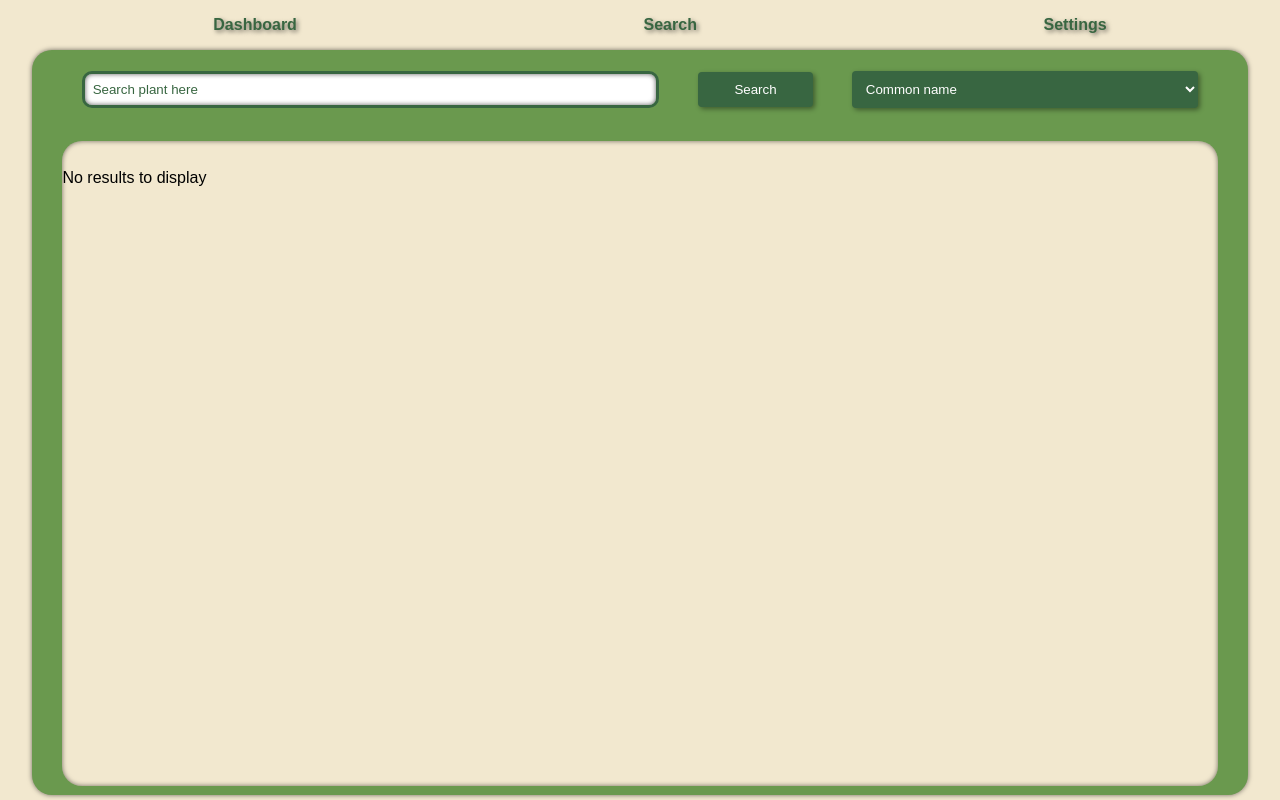
Test: fetches flowers and updates UI on successful search
Type "rose" into the field with placeholder "Search plant here" at (370, 89), box [82,71,659,108]
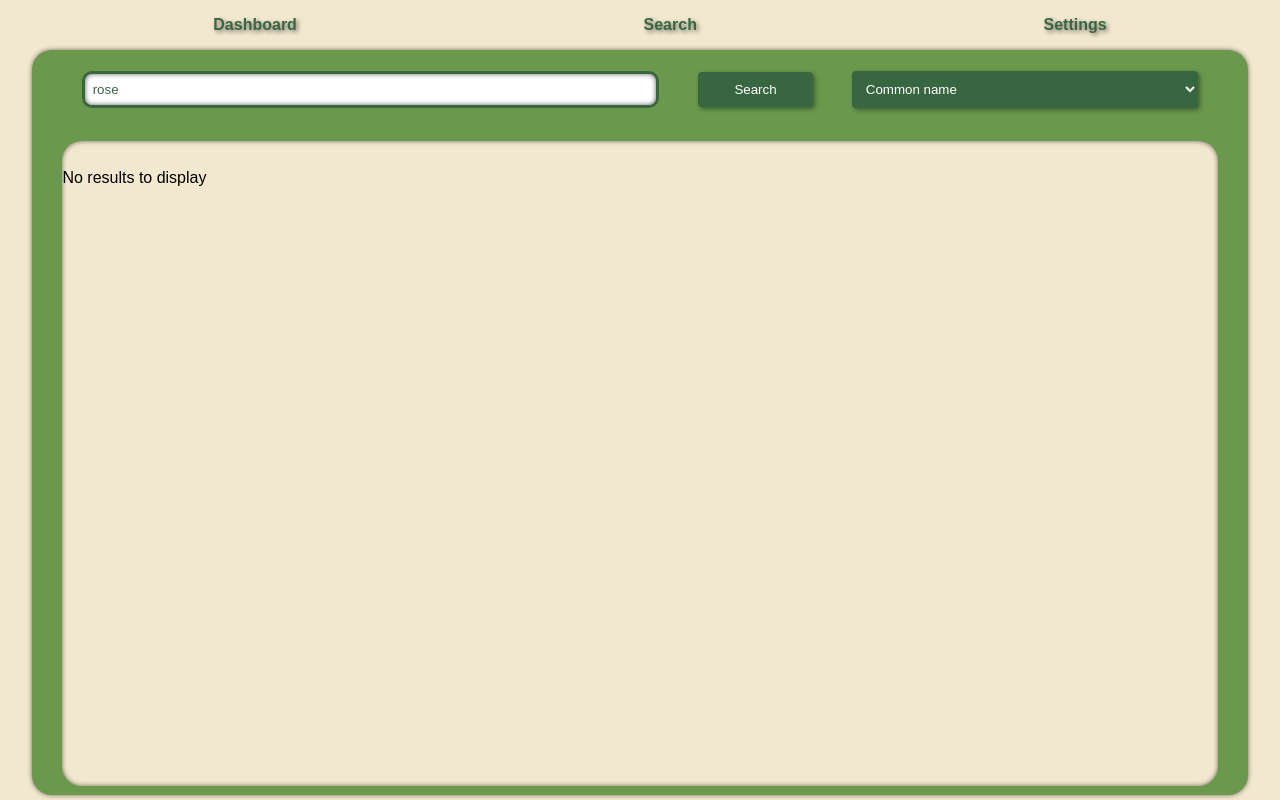
Click the button "Search" at (756, 89), box [698,72,813,107]
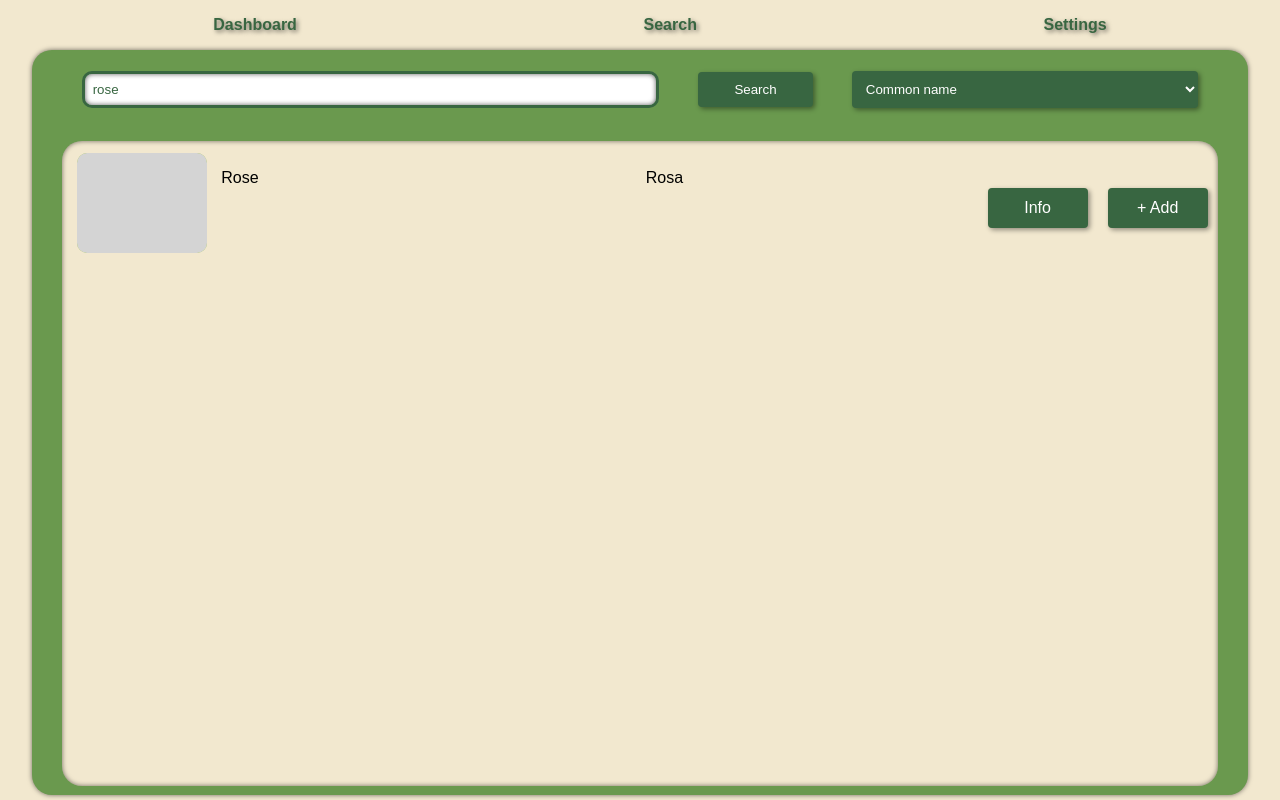
Expected: the text "Rose" is shown, [221,169,259,186]
